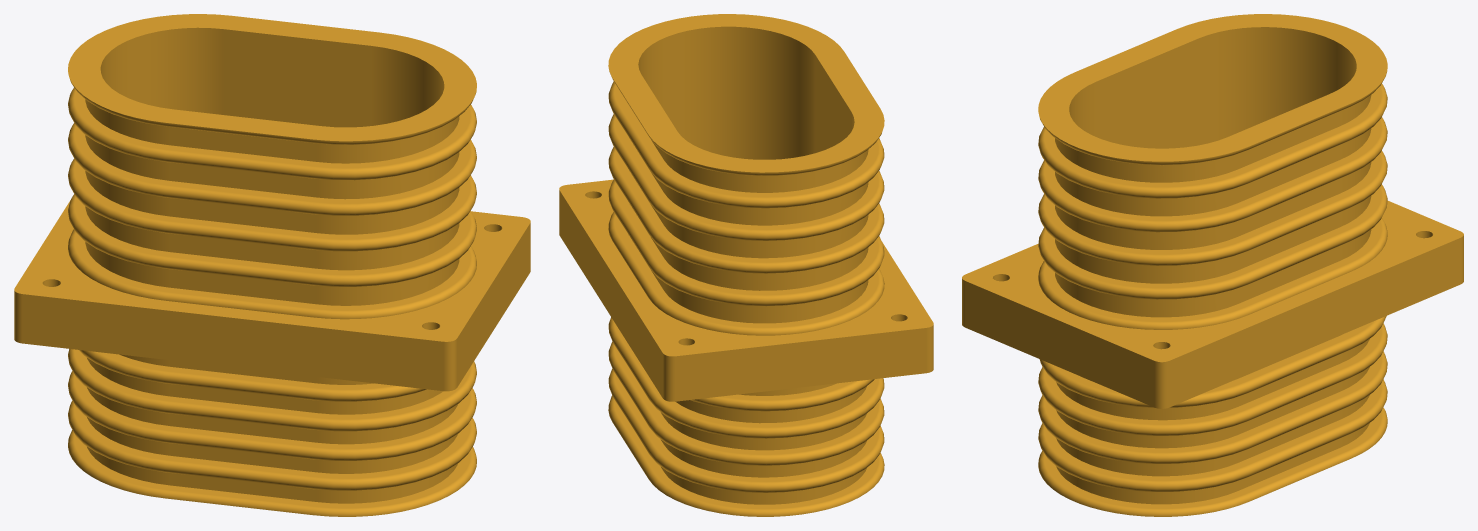
File: 04.1_izolyator-prokhodnoy-ip-10-110x180.glb
The picture shows the model from 3 angles, left to right: view 1: azimuth 30°, elevation 25°; view 2: azimuth 150°, elevation 25°; view 3: azimuth 270°, elevation 25°; orthographic projection. The views are drawn at different scales.
Visible parts, largest first — view 1: 04.1_izolyator-prokhodnoy-ip-10-110x180; view 2: 04.1_izolyator-prokhodnoy-ip-10-110x180; view 3: 04.1_izolyator-prokhodnoy-ip-10-110x180.
Boxes of the visible parts, <box> form: 04.1_izolyator-prokhodnoy-ip-10-110x180: <box>14,14,530,516</box>; 04.1_izolyator-prokhodnoy-ip-10-110x180: <box>559,14,933,516</box>; 04.1_izolyator-prokhodnoy-ip-10-110x180: <box>962,14,1463,516</box>.
Size of the model in its own units: 243 by 190 by 243.
